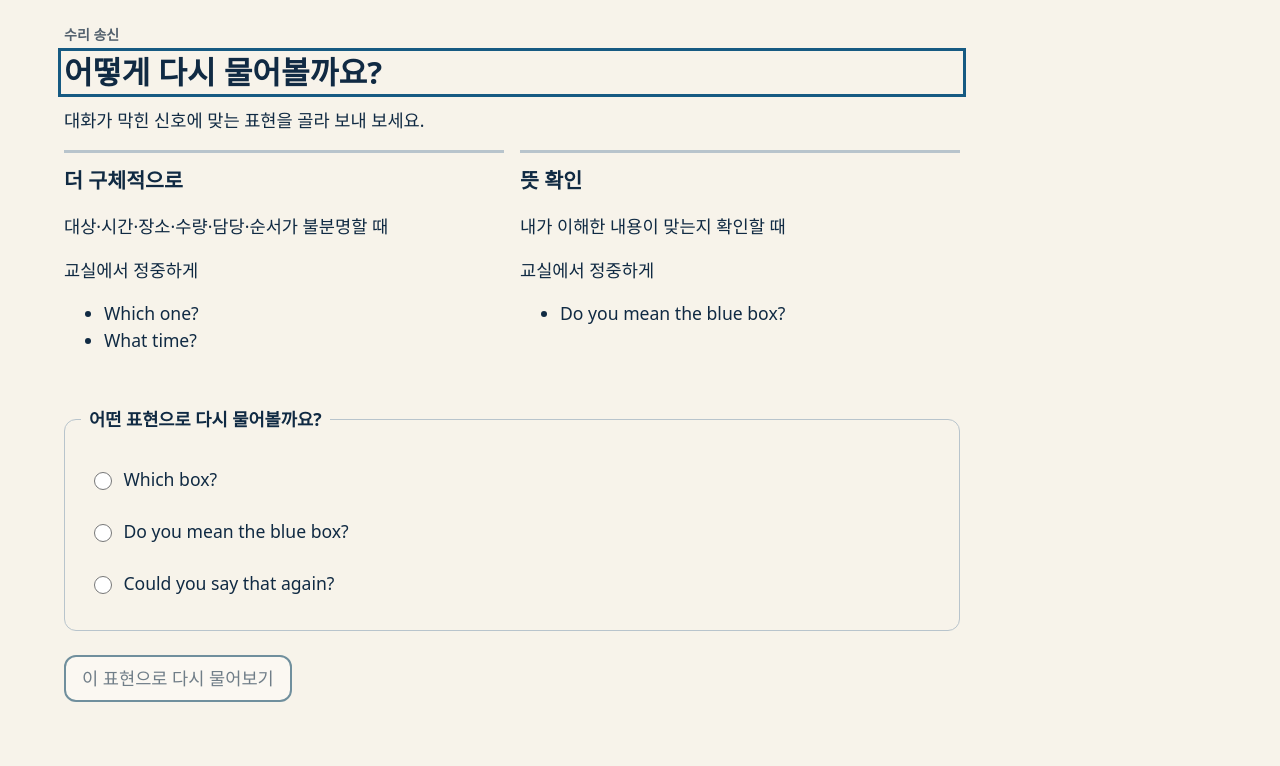
Test: RepairTransmission › preserves the second accepted expression feedback when entering response
(page scrolled)
Step 1. Click the radio button labelled "Do you mean the blue box?" → [103, 533], box [94,524,112,542]
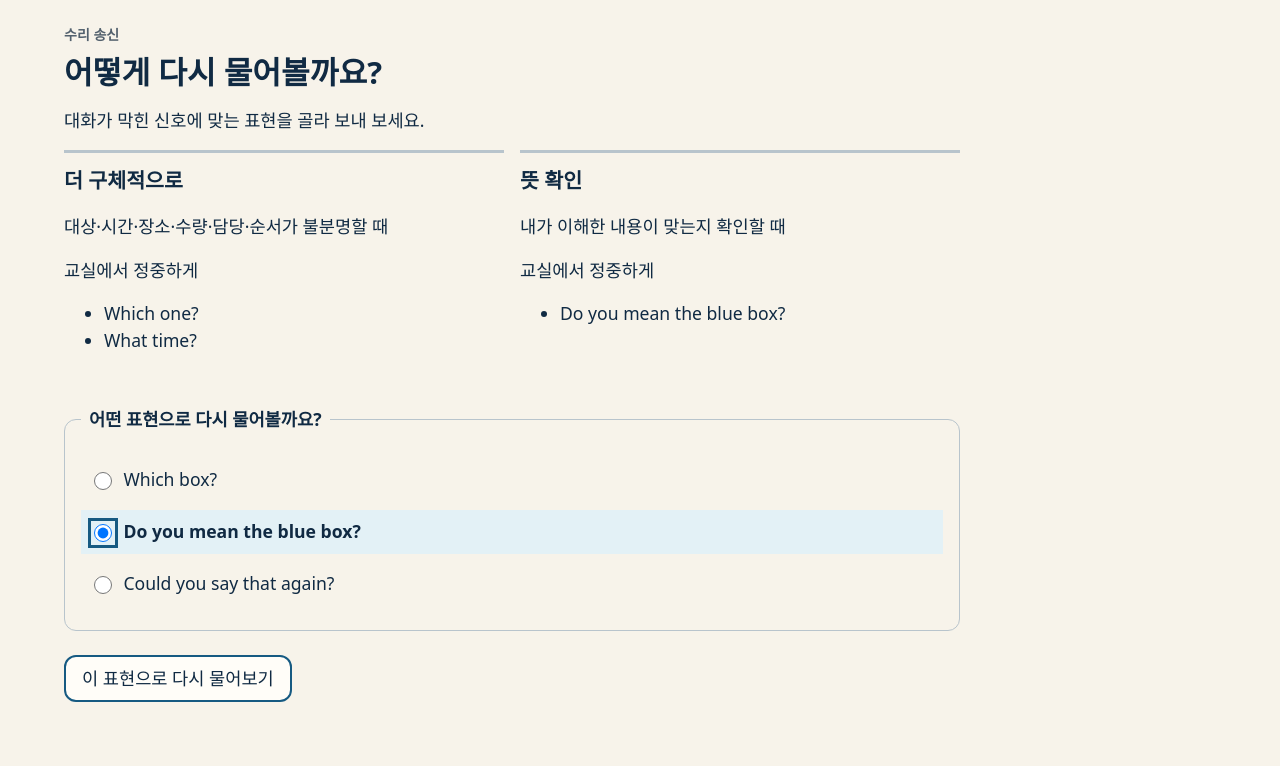
Step 2. Click the button "이 표현으로 다시 물어보기" → [178, 678], box [64,655,292,702]
(page scrolled)
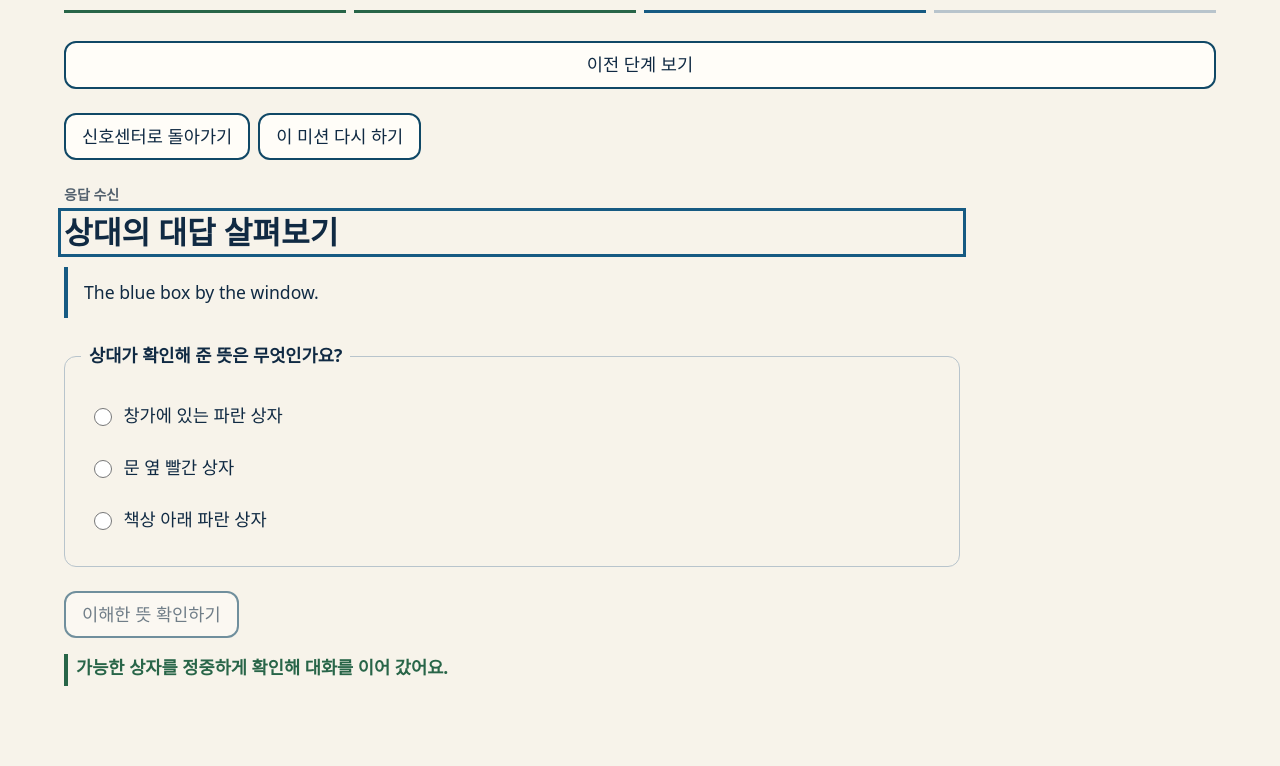
Expected: the heading "상대의 대답 살펴보기" is shown, [64,211,338,253]
Expected: the message reads "가능한 상자를 정중하게 확인해 대화를 이어 갔어요.", [76,655,448,679]
